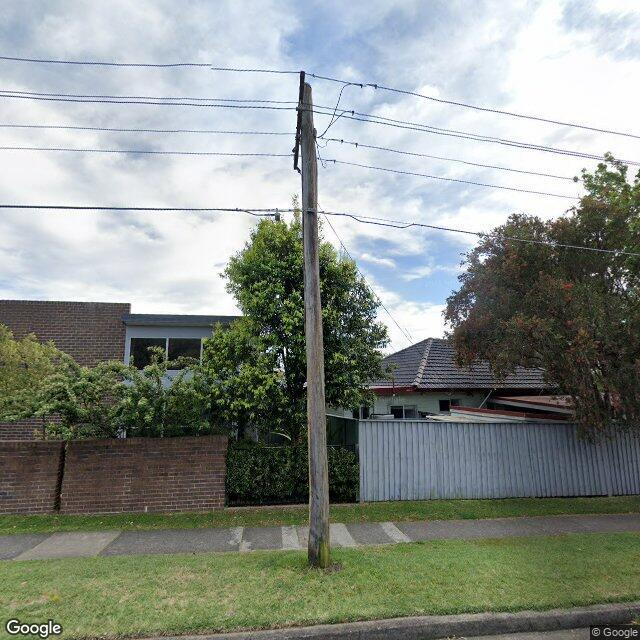crossarm: (292, 69, 306, 170)
timber-pole: (298, 83, 330, 567)
